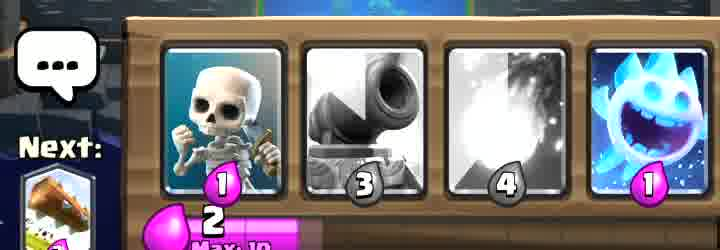ice-spirit: (594, 45, 710, 200)
log: (24, 168, 92, 250)
